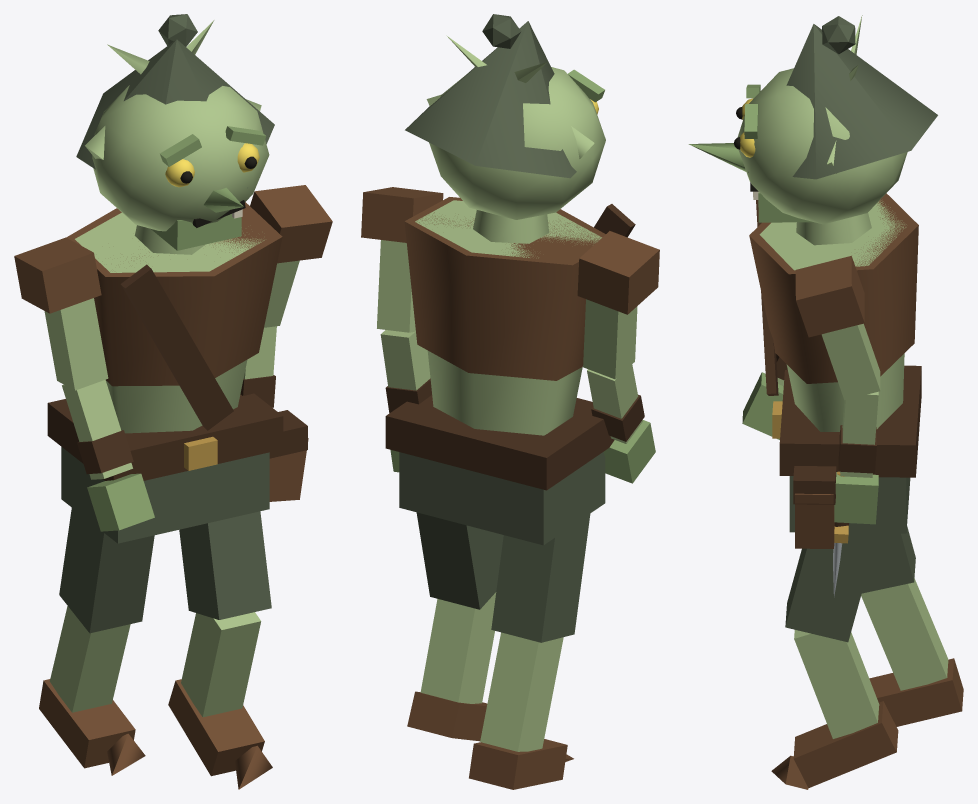
The model's file is goblin-thief.glb.
3 views of the same model, side by side, from view 1: azimuth 30°, elevation 25°; view 2: azimuth 150°, elevation 25°; view 3: azimuth 270°, elevation 25° (orthographic). The views are drawn at different scales.
Parts seen in each view (by area): view 1: vest, skull, chest, pelvis, thigh_l, thigh_r, belt, shin_r, strap, shin_l, hood, shoulder_l (+22 smaller); view 2: vest, hood, chest, belt, pelvis, skull, thigh_l, shin_l, shin_r, thigh_r, shoulder_l, foot_base_l (+14 smaller); view 3: vest, hood, skull, chest, belt, thigh_r, shin_l, shin_r, foot_base_r, shoulder_r, foot_base_l, upper_arm_r (+14 smaller).
Part boxes in pixels (<box>): vest: <box>66,202,282,386</box>; skull: <box>92,85,269,231</box>; chest: <box>75,212,264,433</box>; pelvis: <box>61,447,269,543</box>; thigh_l: <box>59,490,154,633</box>; thigh_r: <box>179,511,271,619</box>; belt: <box>47,393,283,480</box>; shin_r: <box>181,612,261,717</box>; strap: <box>120,264,233,430</box>; shin_l: <box>49,606,130,712</box>; hood: <box>76,39,274,188</box>; shoulder_l: <box>14,237,101,313</box>; vest: <box>404,197,605,380</box>; hood: <box>405,21,576,178</box>; chest: <box>415,200,601,435</box>; belt: <box>385,395,614,490</box>; pelvis: <box>399,452,605,545</box>; skull: <box>429,67,605,219</box>; thigh_l: <box>491,508,590,642</box>; shin_l: <box>480,632,563,751</box>; shin_r: <box>420,592,496,703</box>; thigh_r: <box>416,512,503,609</box>; shoulder_l: <box>577,231,659,314</box>; foot_base_l: <box>469,739,567,789</box>; vest: <box>749,193,918,383</box>; hood: <box>748,24,937,179</box>; skull: <box>737,68,907,224</box>; chest: <box>759,200,906,431</box>; belt: <box>779,365,921,477</box>; thigh_r: <box>785,523,879,642</box>; shin_l: <box>861,578,948,690</box>; shin_r: <box>794,630,879,738</box>; foot_base_r: <box>793,701,898,788</box>; shoulder_r: <box>795,255,864,337</box>; foot_base_l: <box>869,658,963,726</box>; upper_arm_r: <box>821,323,880,400</box>.
Bounding box in the file's own units: 0.4919 × 1.26 × 0.4246.
